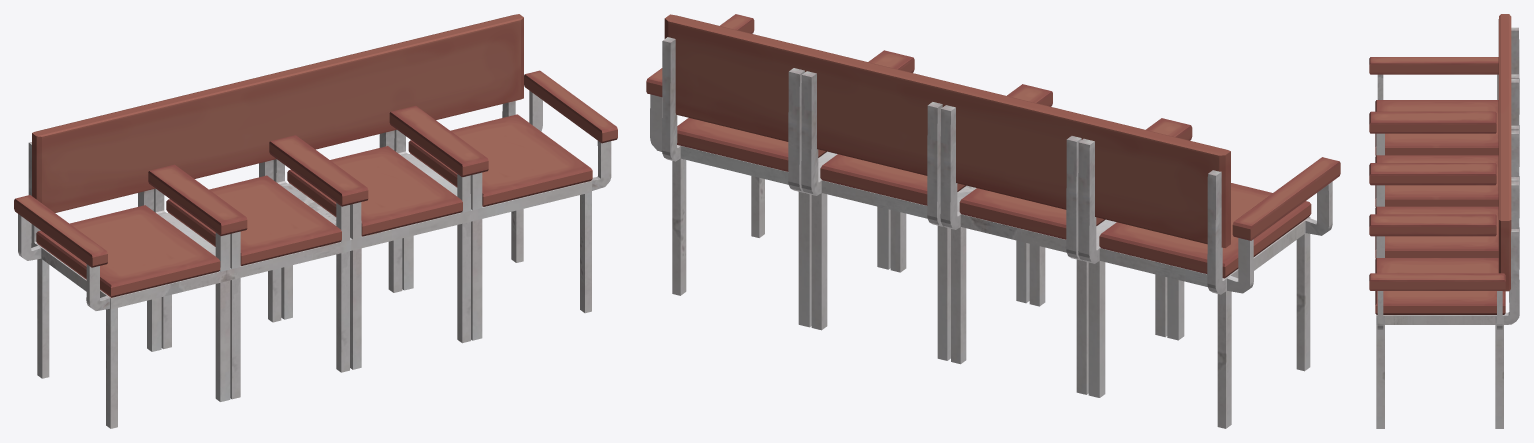
File: long seat.fbx
The picture shows the model from 3 angles, left to right: view 1: azimuth 30°, elevation 25°; view 2: azimuth 150°, elevation 25°; view 3: azimuth 270°, elevation 25°; orthographic projection. The views are drawn at different scales.
Parts seen in each view (by area): view 1: Cube.005; view 2: Cube.005; view 3: Cube.005.
Boxes of the visible parts, bbox=[...] form: Cube.005: bbox=[14, 14, 617, 428]; Cube.005: bbox=[646, 14, 1340, 428]; Cube.005: bbox=[1369, 14, 1519, 428].
Bounding box in the file's own units: 772 × 338 × 220.
